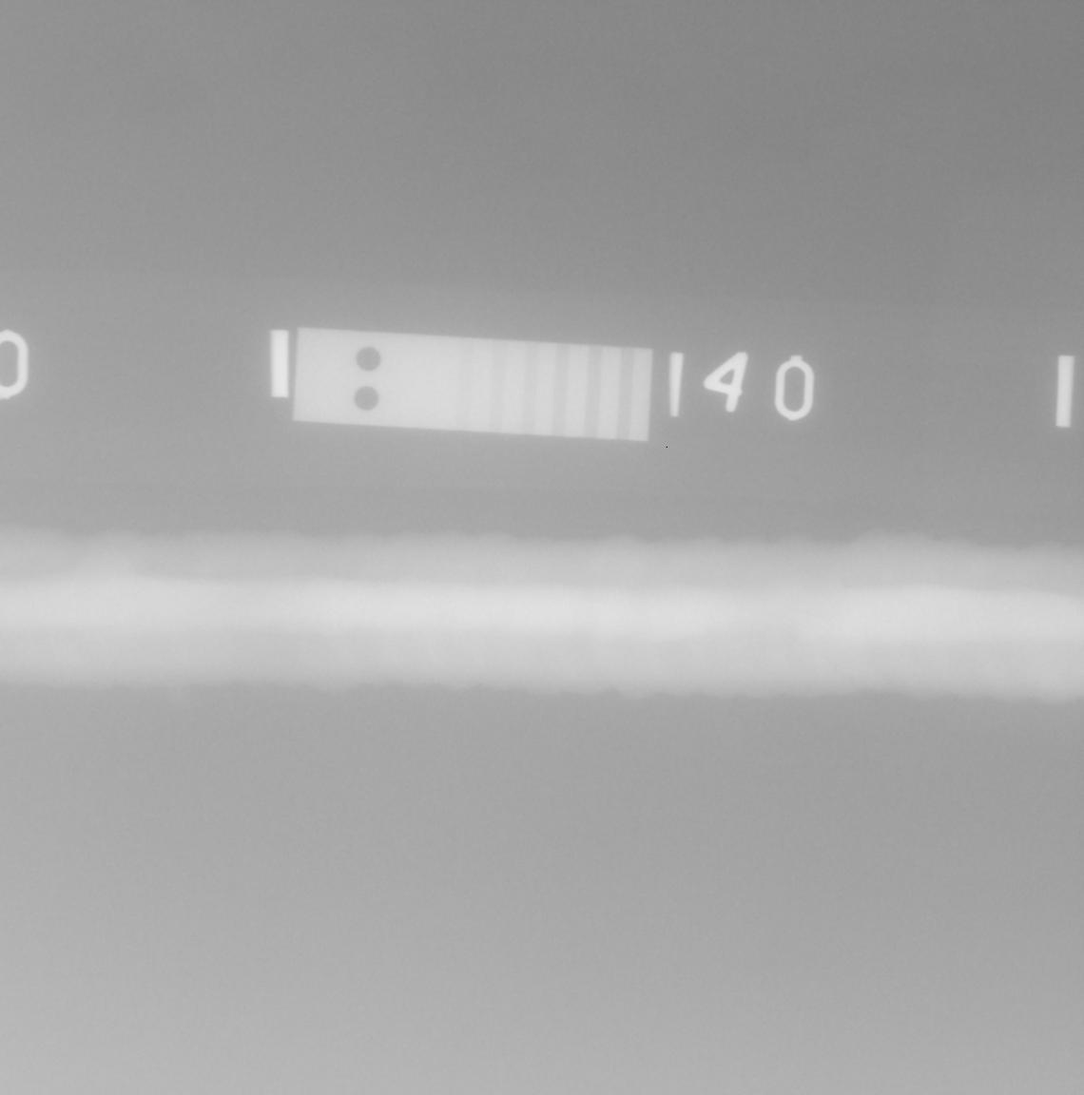Inclusion: (806, 612, 820, 619)
Reference Standard 2: (291, 327, 652, 442)
